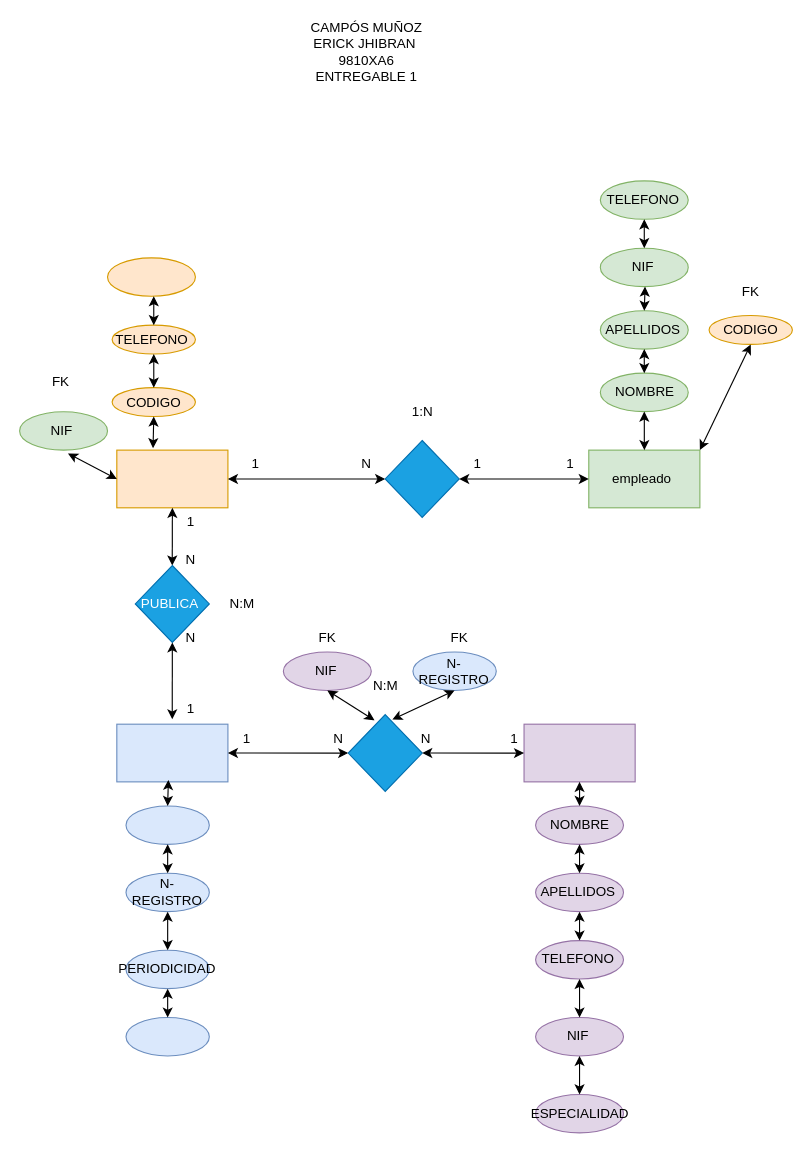
This 812x1152 diagram has some shape labels left out. The shapes that lost their labels are listed below. From the top down, each one's centre as x and y in pixels, then its label:
At point (150, 276): "DOMICILIO".
At point (172, 478): "sucursal".
At point (421, 478): "TIENE".
At point (172, 752): "REVISTAS".
At point (384, 752): "ESCRIBIR".
At point (579, 752): "PERIODISTAS".
At point (167, 824): "TITULO".
At point (167, 1036): "TIPO".
